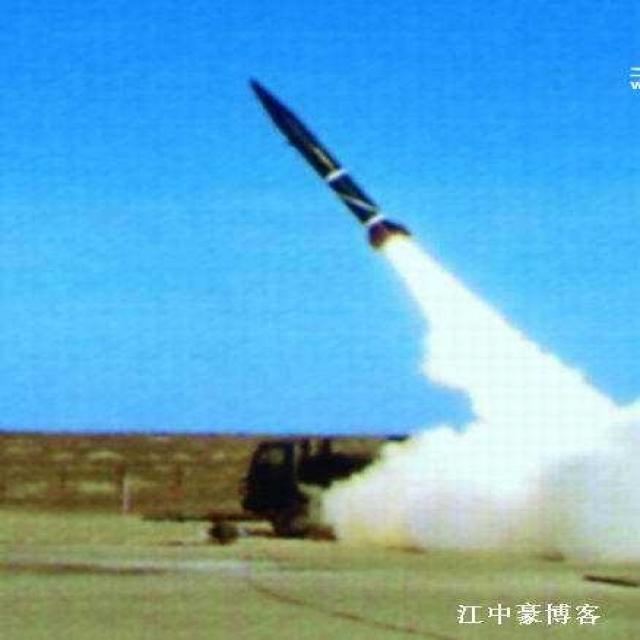missile: (247, 72, 412, 261)
